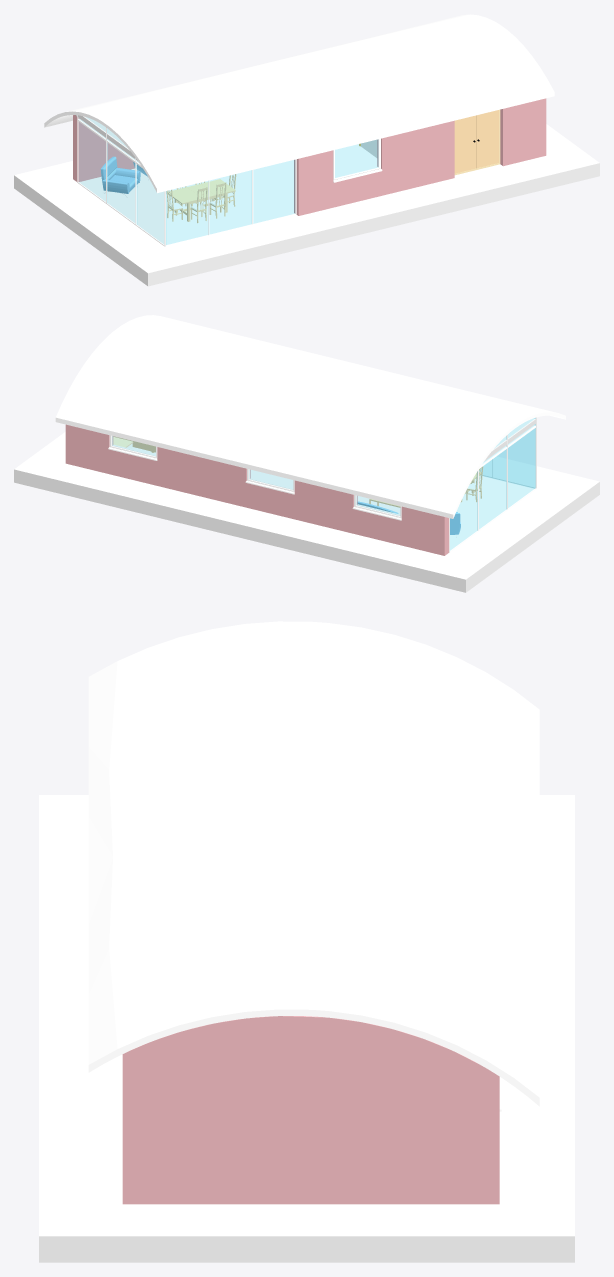
Rendered from IFCmesh_updated.glb.
The picture shows the model from 3 angles, top to bottom: view 1: azimuth 30°, elevation 25°; view 2: azimuth 150°, elevation 25°; view 3: azimuth 270°, elevation 25°; orthographic projection. The views are drawn at different scales.
Visible parts, largest first — view 1: 3cUkl32yn9qRSPvBJVyWh4, 3cUkl32yn9qRSPvBJVyWgQ, 3cUkl32yn9qRSPvBJVyWy4, 3cUkl32yn9qRSPvBJVyWYp, 3cUkl32yn9qRSPvBJVyW$Y, 3cUkl32yn9qRSPvBJVyW$l, 3cUkl32yn9qRSPvBJVyW$j, 3cUkl32yn9qRSPvBJVyWw5, 3cUkl32yn9qRSPvBJVyW_5, 3cUkl32yn9qRSPvBJVyW_O, 3cUkl32yn9qRSPvBJVyZTO, 3cUkl32yn9qRSPvBJVyW_3 (+4 smaller); view 2: 3cUkl32yn9qRSPvBJVyWh4, 3cUkl32yn9qRSPvBJVyWgQ, 3cUkl32yn9qRSPvBJVyWw5, 3cUkl32yn9qRSPvBJVyW_3, 3cUkl32yn9qRSPvBJVyW_5, 3cUkl32yn9qRSPvBJVyW$Y, 3cUkl32yn9qRSPvBJVyW_O, 3cUkl32yn9qRSPvBJVyWcE, 3cUkl32yn9qRSPvBJVyWdx, 3cUkl32yn9qRSPvBJVyWe9, 3ntFzSulnDNeQ4nJrMgcOt; view 3: 3cUkl32yn9qRSPvBJVyWh4, 3cUkl32yn9qRSPvBJVyWgQ, 3cUkl32yn9qRSPvBJVyWx4, 3cUkl32yn9qRSPvBJVyWw5.
Boxes of the visible parts, left/top/right/bottom form: 3cUkl32yn9qRSPvBJVyWh4: left=44, top=14, right=554, bottom=193; 3cUkl32yn9qRSPvBJVyWgQ: left=14, top=124, right=599, bottom=286; 3cUkl32yn9qRSPvBJVyWy4: left=294, top=100, right=538, bottom=215; 3cUkl32yn9qRSPvBJVyWYp: left=454, top=109, right=500, bottom=175; 3cUkl32yn9qRSPvBJVyW$Y: left=166, top=181, right=207, bottom=244; 3cUkl32yn9qRSPvBJVyW$l: left=210, top=171, right=251, bottom=233; 3cUkl32yn9qRSPvBJVyW$j: left=254, top=160, right=294, bottom=222; 3cUkl32yn9qRSPvBJVyWw5: left=73, top=115, right=134, bottom=181; 3cUkl32yn9qRSPvBJVyW_5: left=108, top=130, right=134, bottom=222; 3cUkl32yn9qRSPvBJVyW_O: left=79, top=118, right=105, bottom=200; 3cUkl32yn9qRSPvBJVyZTO: left=333, top=138, right=382, bottom=182; 3cUkl32yn9qRSPvBJVyW_3: left=137, top=165, right=163, bottom=243; 3cUkl32yn9qRSPvBJVyWh4: left=55, top=315, right=565, bottom=518; 3cUkl32yn9qRSPvBJVyWgQ: left=14, top=432, right=599, bottom=592; 3cUkl32yn9qRSPvBJVyWw5: left=65, top=424, right=448, bottom=555; 3cUkl32yn9qRSPvBJVyW_3: left=508, top=418, right=534, bottom=507; 3cUkl32yn9qRSPvBJVyW_5: left=479, top=437, right=505, bottom=528; 3cUkl32yn9qRSPvBJVyW$Y: left=492, top=429, right=534, bottom=487; 3cUkl32yn9qRSPvBJVyW_O: left=450, top=473, right=476, bottom=549; 3cUkl32yn9qRSPvBJVyWcE: left=108, top=435, right=157, bottom=460; 3cUkl32yn9qRSPvBJVyWdx: left=245, top=469, right=294, bottom=494; 3cUkl32yn9qRSPvBJVyWe9: left=352, top=495, right=401, bottom=520; 3ntFzSulnDNeQ4nJrMgcOt: left=484, top=418, right=535, bottom=461; 3cUkl32yn9qRSPvBJVyWh4: left=88, top=621, right=539, bottom=1106; 3cUkl32yn9qRSPvBJVyWgQ: left=39, top=795, right=574, bottom=1262; 3cUkl32yn9qRSPvBJVyWx4: left=122, top=1016, right=481, bottom=1204; 3cUkl32yn9qRSPvBJVyWw5: left=481, top=1066, right=499, bottom=1204.
Bounding box in the file's own units: 16868 × 3945 × 8668.
